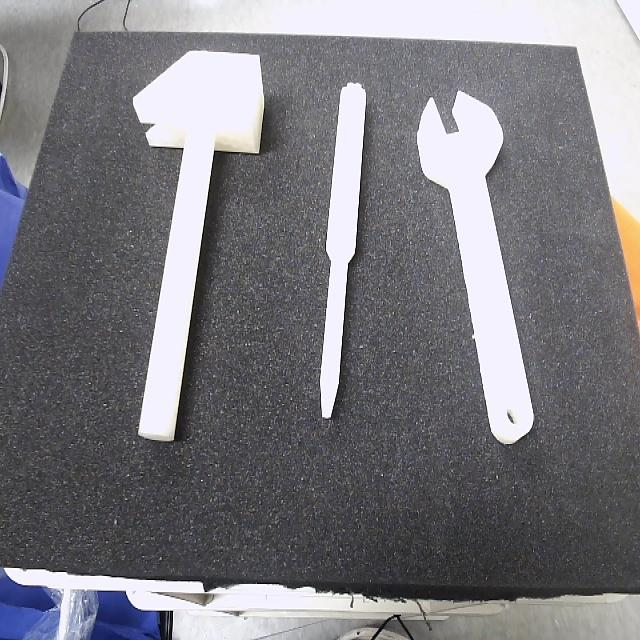Driver: (319, 83, 368, 421)
Hammer: (132, 51, 265, 444)
Spanner: (417, 92, 534, 447)
